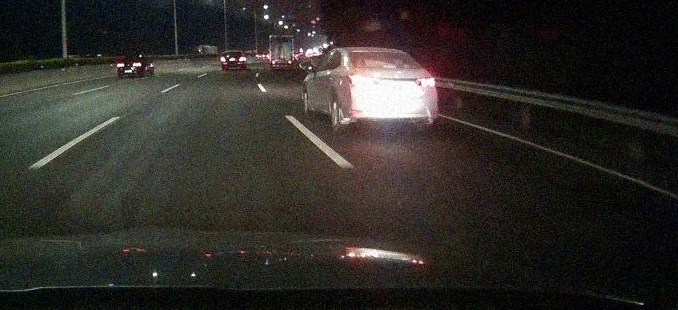L_light: (348, 75, 374, 85), (220, 57, 226, 61), (272, 61, 275, 64)
R_light: (417, 77, 435, 87), (240, 57, 245, 61), (288, 61, 291, 64)
T_light: (383, 65, 396, 68), (280, 37, 283, 38), (231, 52, 234, 53)
night-no: (342, 47, 438, 133), (268, 34, 294, 71), (220, 50, 246, 70)
